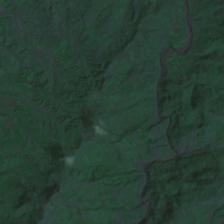landslides: (194, 195, 224, 224), (42, 103, 69, 115), (183, 158, 197, 176), (32, 95, 49, 107), (141, 200, 150, 222), (73, 77, 87, 91), (190, 116, 207, 127), (201, 130, 214, 143), (41, 180, 57, 190), (160, 200, 174, 211), (147, 117, 159, 129), (135, 37, 148, 48), (87, 71, 99, 82), (78, 75, 89, 86), (145, 80, 158, 89), (167, 149, 178, 159), (134, 160, 146, 169), (212, 48, 224, 57), (87, 75, 97, 85)
